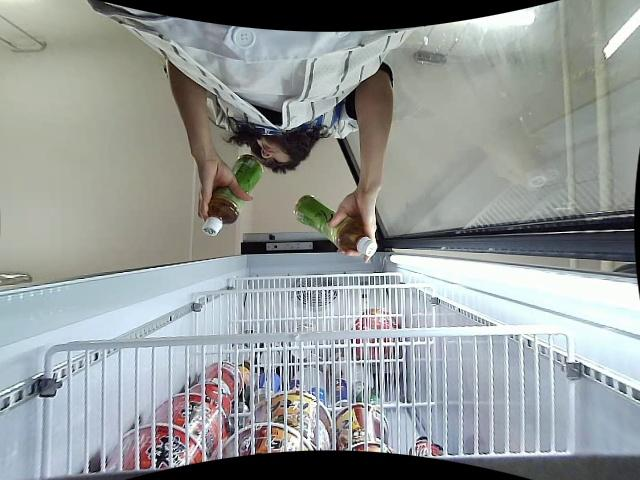00_hand: (327, 194, 379, 265), (196, 161, 255, 221)
19_17cha: (291, 196, 377, 259), (200, 155, 261, 238)
